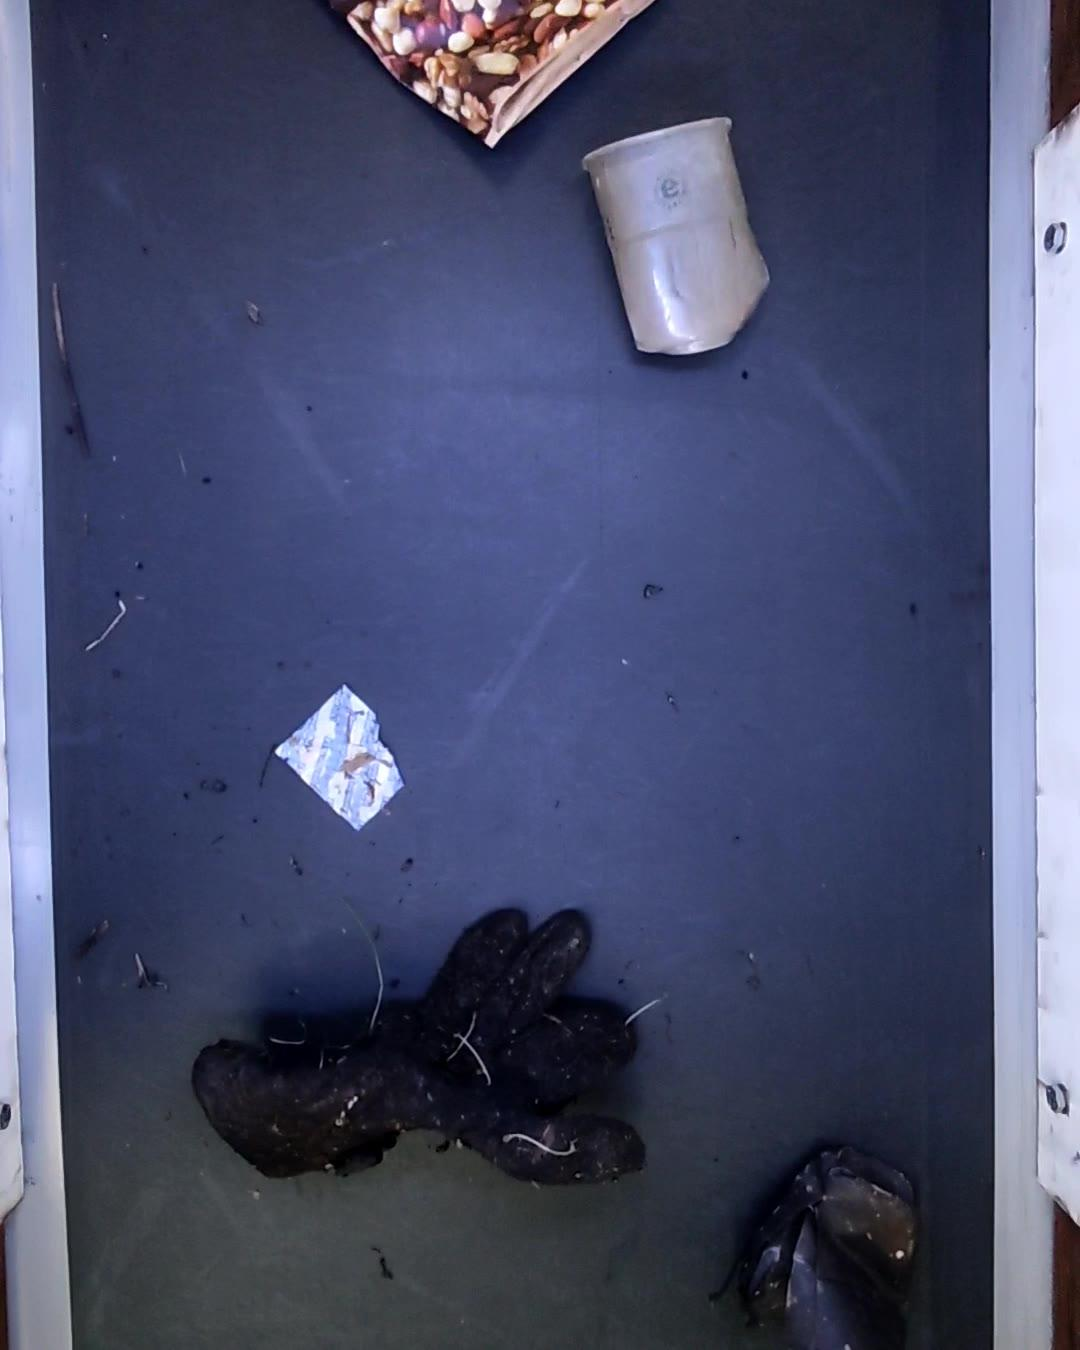Voedselverpakkingen: (330, 0, 669, 160), (277, 687, 407, 835)
